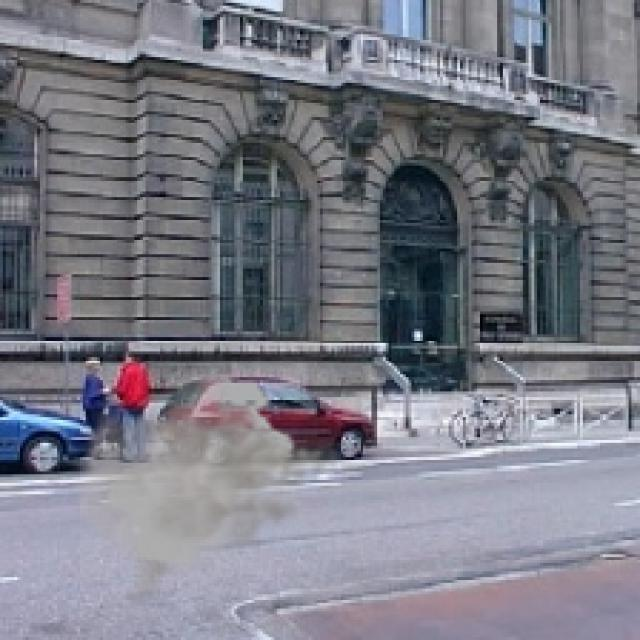Smoke: (69, 368, 348, 603)
